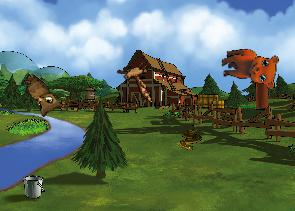bear: (220, 48, 279, 90)
eagle: (109, 53, 167, 105)
owl: (12, 71, 66, 122)
